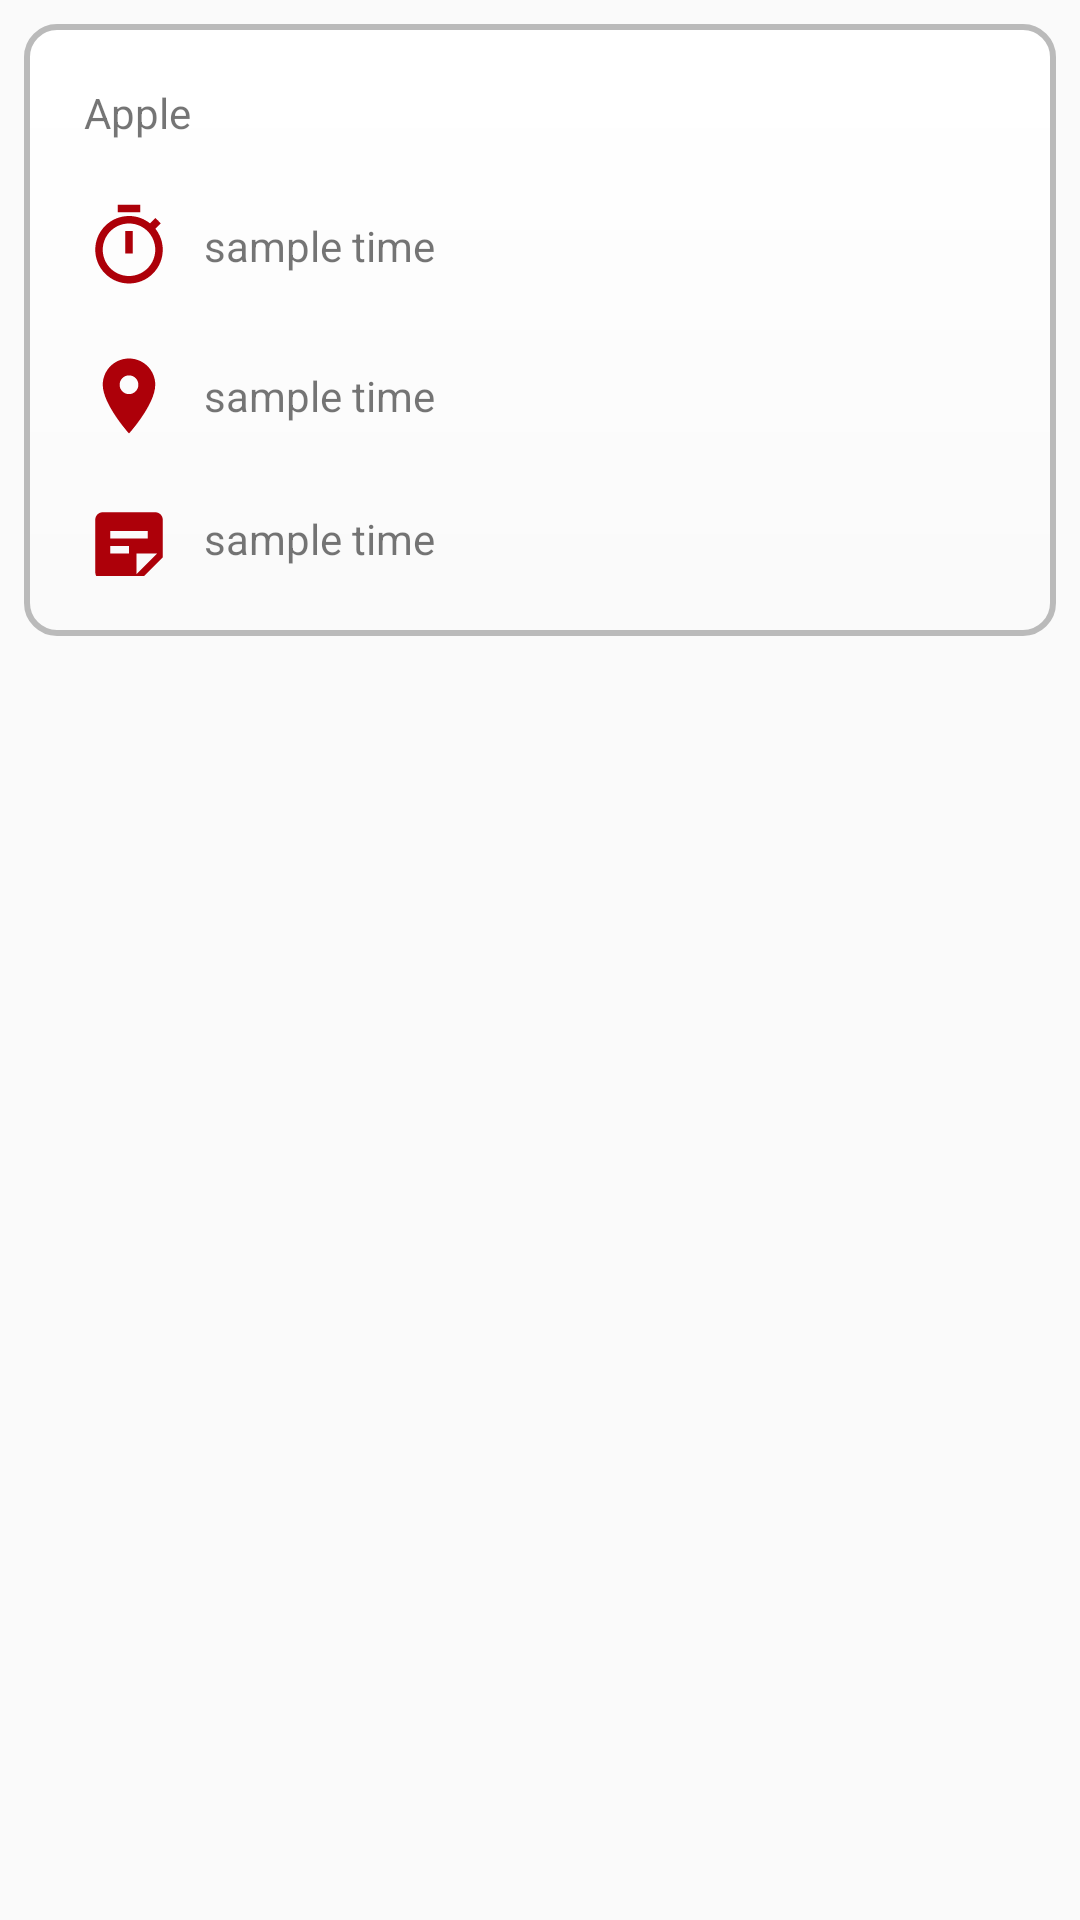

Icon click points for this 1080*1920 phone screenshot, format (x,y):
location on: (129,395)
sticky note: (129,544)
timer: (129,244)
